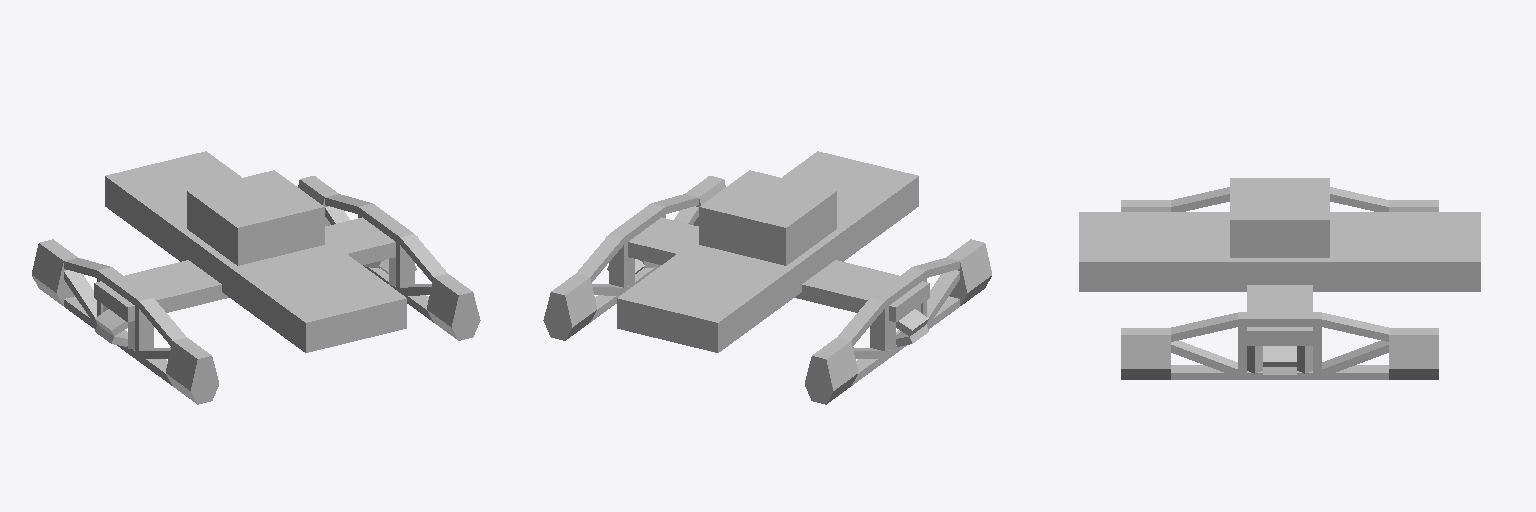
The model's file is archbar_frame.obj.
The picture shows the model from 3 angles: view 1: azimuth 30°, elevation 25°; view 2: azimuth 150°, elevation 25°; view 3: azimuth 270°, elevation 25°; orthographic projection.
Parts seen in each view (by area): view 1: cube2, cube3, cube1, cube11, cube16, cube18, cube5, cube4, cube6, cube10, cube13, cube22 (+1 smaller); view 2: cube2, cube3, cube1, cube4, cube17, cube18, cube5, cube11, cube6, cube15, cube7, cube23 (+2 smaller); view 3: cube2, cube3, cube18, cube1, cube16, cube17, cube19, cube5, cube20, cube21, cube25, cube4 (+1 smaller).
Part boxes in pixels (bbox=[...]): cube2: bbox=[105, 151, 406, 352]; cube3: bbox=[187, 170, 324, 265]; cube1: bbox=[94, 217, 417, 321]; cube11: bbox=[166, 337, 218, 404]; cube16: bbox=[427, 274, 480, 340]; cube18: bbox=[325, 194, 447, 281]; cube5: bbox=[64, 258, 185, 345]; cube4: bbox=[32, 239, 77, 305]; cube6: bbox=[64, 296, 171, 385]; cube10: bbox=[64, 270, 96, 324]; cube13: bbox=[135, 306, 153, 353]; cube22: bbox=[396, 242, 414, 287]; cube2: bbox=[617, 151, 918, 352]; cube3: bbox=[699, 170, 836, 265]; cube1: bbox=[606, 217, 929, 321]; cube4: bbox=[805, 337, 857, 404]; cube17: bbox=[543, 274, 596, 340]; cube18: bbox=[576, 194, 698, 281]; cube5: bbox=[838, 258, 959, 345]; cube11: bbox=[946, 239, 991, 305]; cube6: bbox=[852, 296, 959, 385]; cube15: bbox=[927, 270, 959, 323]; cube7: bbox=[870, 306, 888, 353]; cube23: bbox=[609, 242, 627, 289]; cube2: bbox=[1079, 212, 1480, 291]; cube3: bbox=[1230, 178, 1329, 257]; cube18: bbox=[1171, 312, 1388, 341]; cube1: bbox=[1247, 285, 1312, 345]; cube16: bbox=[1121, 328, 1170, 379]; cube17: bbox=[1389, 328, 1438, 379]; cube19: bbox=[1171, 365, 1388, 379]; cube5: bbox=[1171, 187, 1388, 211]; cube20: bbox=[1171, 341, 1244, 378]; cube21: bbox=[1315, 341, 1388, 378]; cube25: bbox=[1263, 346, 1296, 366]; cube4: bbox=[1389, 200, 1438, 211].
Size of the model in its own units: 2.63 by 0.9375 by 3.